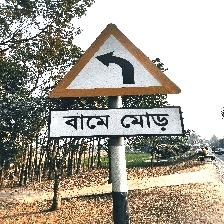Left-Turn: (44, 22, 183, 141)
